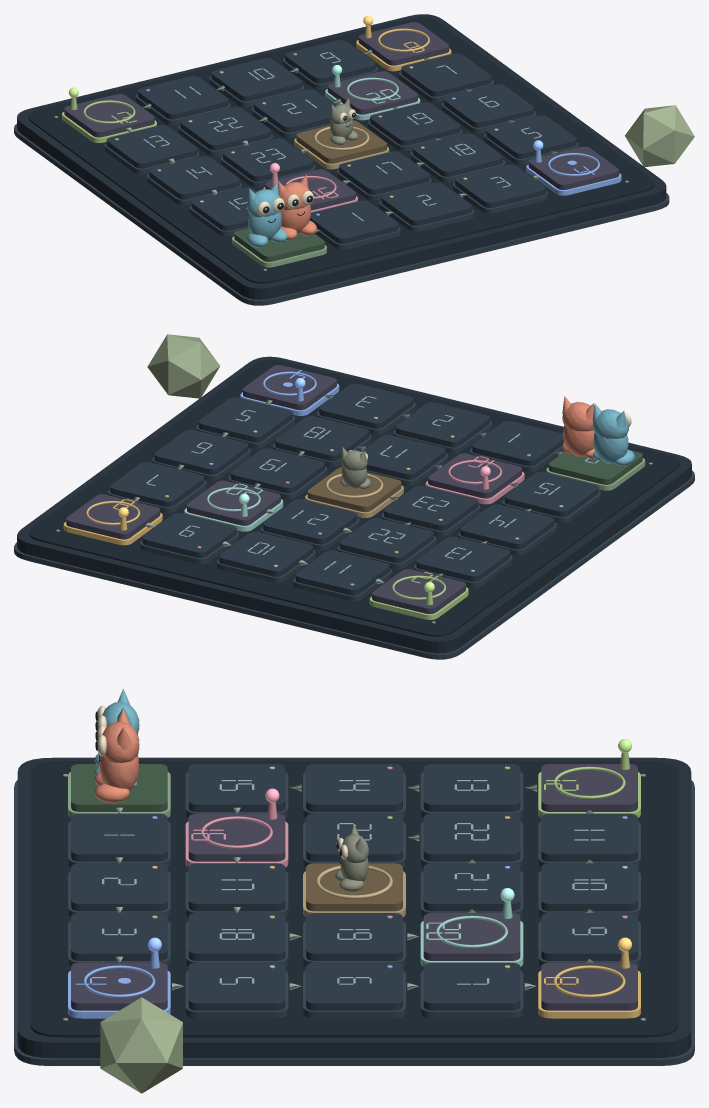
The model's file is five-senses.glb.
3 renders of one model, top to bottom at view 1: azimuth 30°, elevation 25°; view 2: azimuth 150°, elevation 25°; view 3: azimuth 270°, elevation 25°, orthographic. The views are drawn at different scales.
Visible parts, largest first — view 1: 5 Senses — complete tabletop, Rounded tabletop base, Twenty-sided die, Blu — clay explorer, Ember — clay explorer, Moss — core guardian, Space 0, Space 2, Space 3, Space 4 — Sight beacon, Space 1, Space 13 (+7 smaller); view 2: 5 Senses — complete tabletop, Rounded tabletop base, Twenty-sided die, Blu — clay explorer, Ember — clay explorer, Moss — core guardian, Space 12 — Smell beacon, Space 8 — Hearing beacon, Space 10, Space 11, Space 9; view 3: 5 Senses — complete tabletop, Rounded tabletop base, Twenty-sided die, Ember — clay explorer, Moss — core guardian, Space 5, Space 7, Space 8 — Hearing beacon, Space 6, Blu — clay explorer, Space 4 — Sight beacon, Space 16 — Taste beacon (+2 smaller).
Boxes of the visible parts, bbox=[...] form: 5 Senses — complete tabletop: bbox=[14, 15, 669, 305]; Rounded tabletop base: bbox=[17, 14, 666, 299]; Twenty-sided die: bbox=[625, 105, 694, 166]; Blu — clay explorer: bbox=[247, 181, 287, 247]; Ember — clay explorer: bbox=[278, 174, 316, 240]; Moss — core guardian: bbox=[329, 98, 357, 145]; Space 0: bbox=[232, 236, 326, 267]; Space 2: bbox=[379, 200, 474, 231]; Space 3: bbox=[452, 182, 547, 213]; Space 4 — Sight beacon: bbox=[526, 164, 621, 195]; Space 1: bbox=[315, 227, 400, 249]; Space 13: bbox=[104, 143, 199, 174]; 5 Senses — complete tabletop: bbox=[14, 360, 694, 659]; Rounded tabletop base: bbox=[17, 356, 691, 653]; Twenty-sided die: bbox=[147, 334, 219, 398]; Blu — clay explorer: bbox=[592, 403, 634, 465]; Ember — clay explorer: bbox=[562, 396, 598, 458]; Moss — core guardian: bbox=[340, 447, 370, 489]; Space 12 — Smell beacon: bbox=[369, 587, 468, 619]; Space 8 — Hearing beacon: bbox=[63, 513, 162, 545]; Space 10: bbox=[216, 550, 315, 582]; Space 11: bbox=[293, 569, 391, 601]; Space 9: bbox=[140, 531, 238, 563]; 5 Senses — complete tabletop: bbox=[14, 739, 694, 1065]; Rounded tabletop base: bbox=[17, 757, 691, 1058]; Twenty-sided die: bbox=[100, 997, 182, 1093]; Ember — clay explorer: bbox=[94, 708, 139, 802]; Moss — core guardian: bbox=[335, 825, 368, 891]; Space 5: bbox=[185, 970, 288, 1018]; Space 7: bbox=[420, 970, 523, 1018]; Space 8 — Hearing beacon: bbox=[538, 970, 640, 1018]; Space 6: bbox=[303, 970, 405, 1018]; Blu — clay explorer: bbox=[94, 688, 139, 775]; Space 4 — Sight beacon: bbox=[68, 970, 170, 1018]; Space 16 — Taste beacon: bbox=[185, 821, 288, 867].
Size of the model in its own units: 7.57 by 1.36 by 6.72.
